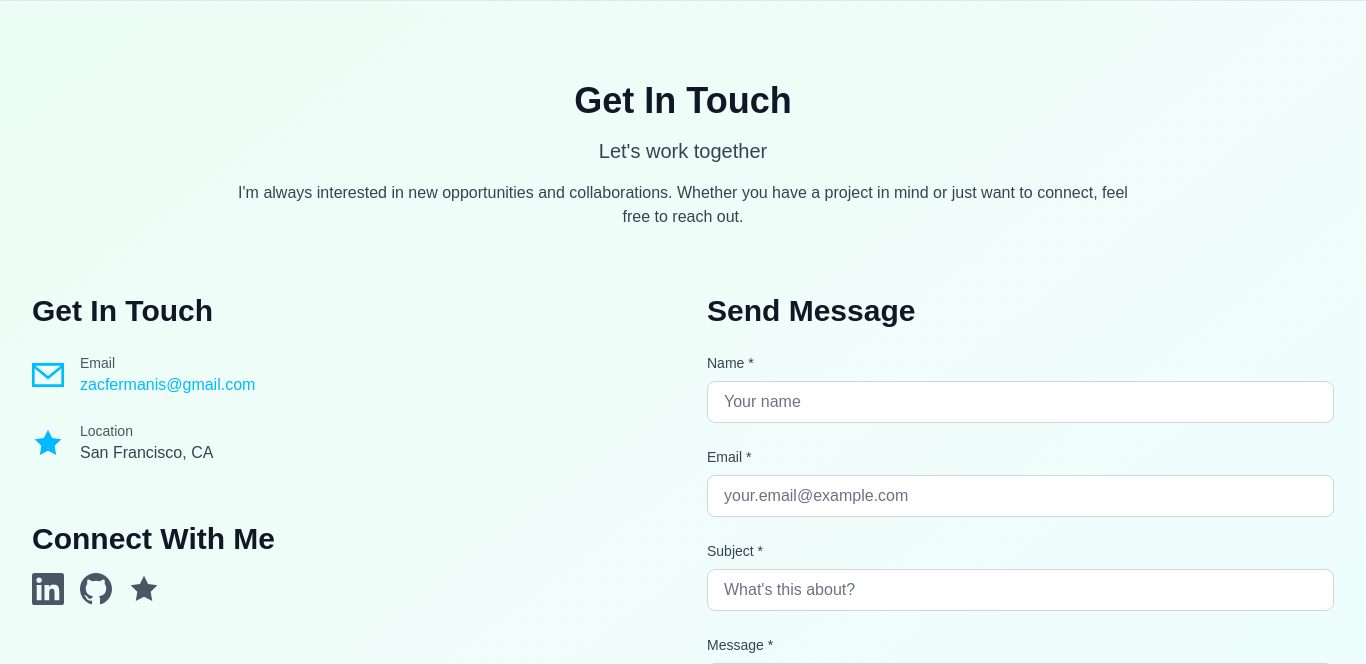
Test case: Contact › handles network error
This screenshot has width=1366, height=664.
Type "John Doe" into the field labelled "Name *" at {"x": 1020, "y": 402}, box [707,381,1334,423]
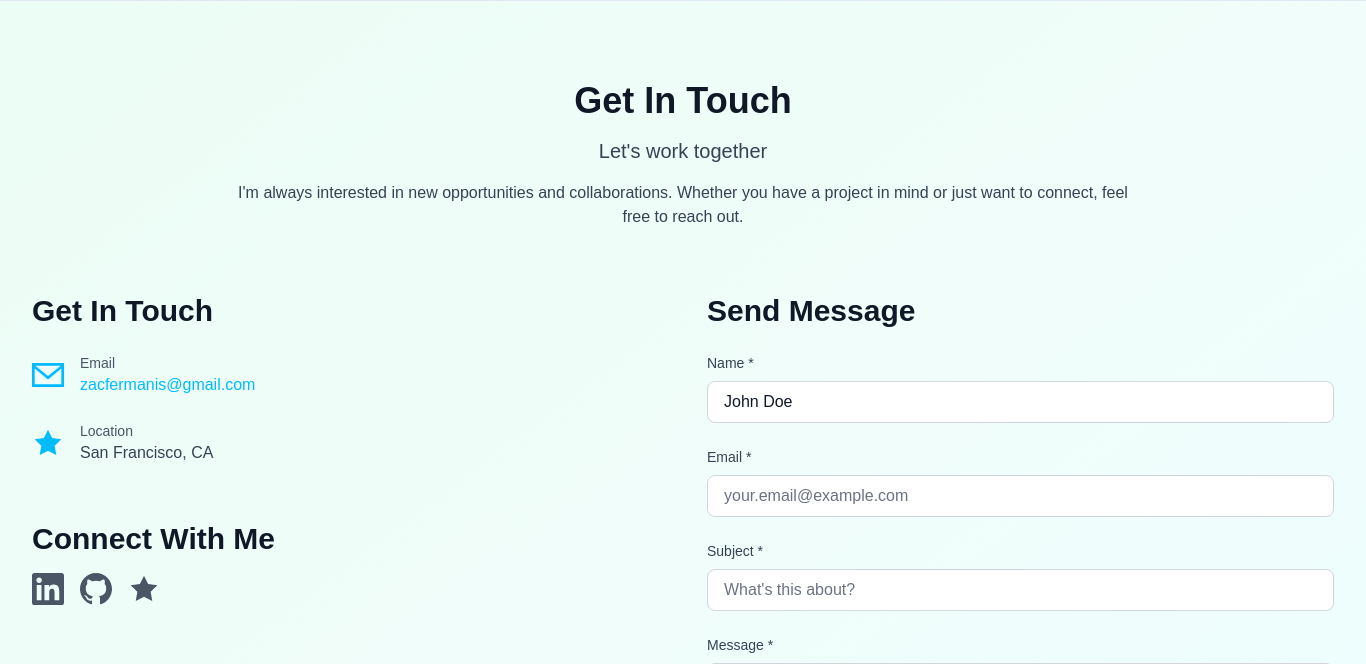
Type "john@example.com" into the field labelled "Email *" at {"x": 1020, "y": 496}, box [707,475,1334,517]
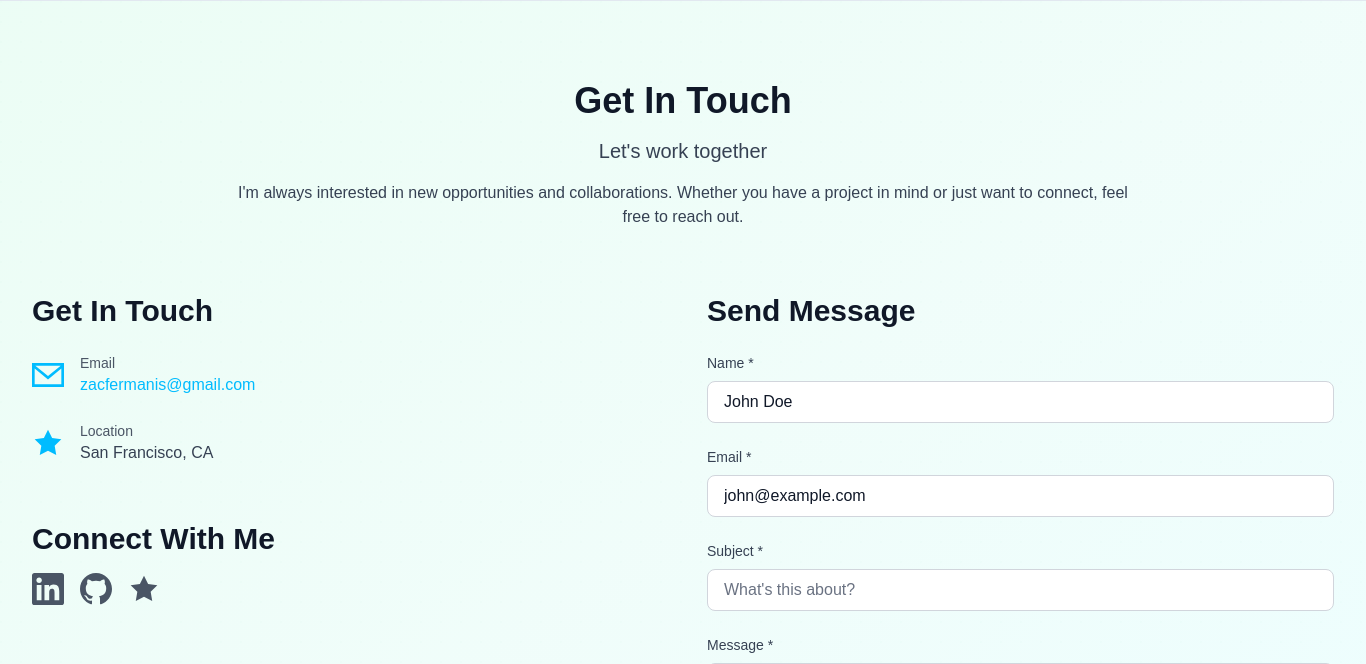
Type "Test Subject" into the field labelled "Subject *" at {"x": 1020, "y": 590}, box [707,569,1334,611]
(page scrolled)
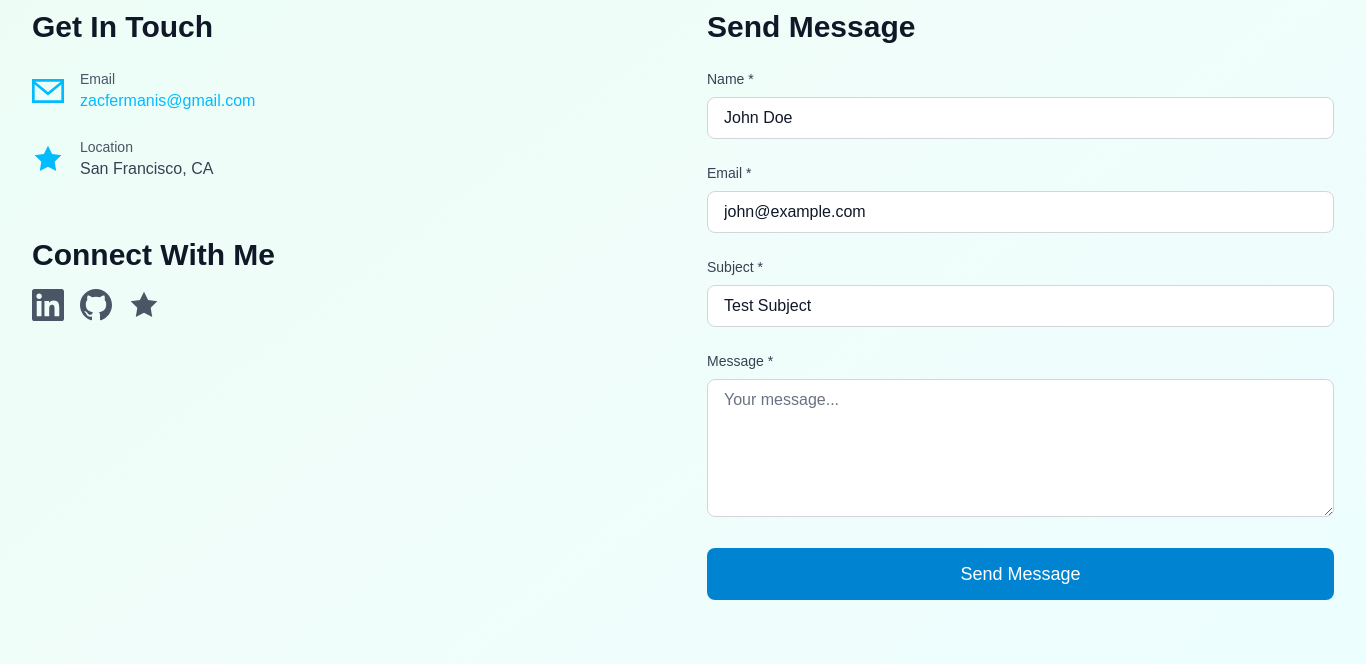
Type "Test message" into the text box labelled "Message *" at {"x": 1020, "y": 448}, box [707,379,1334,517]
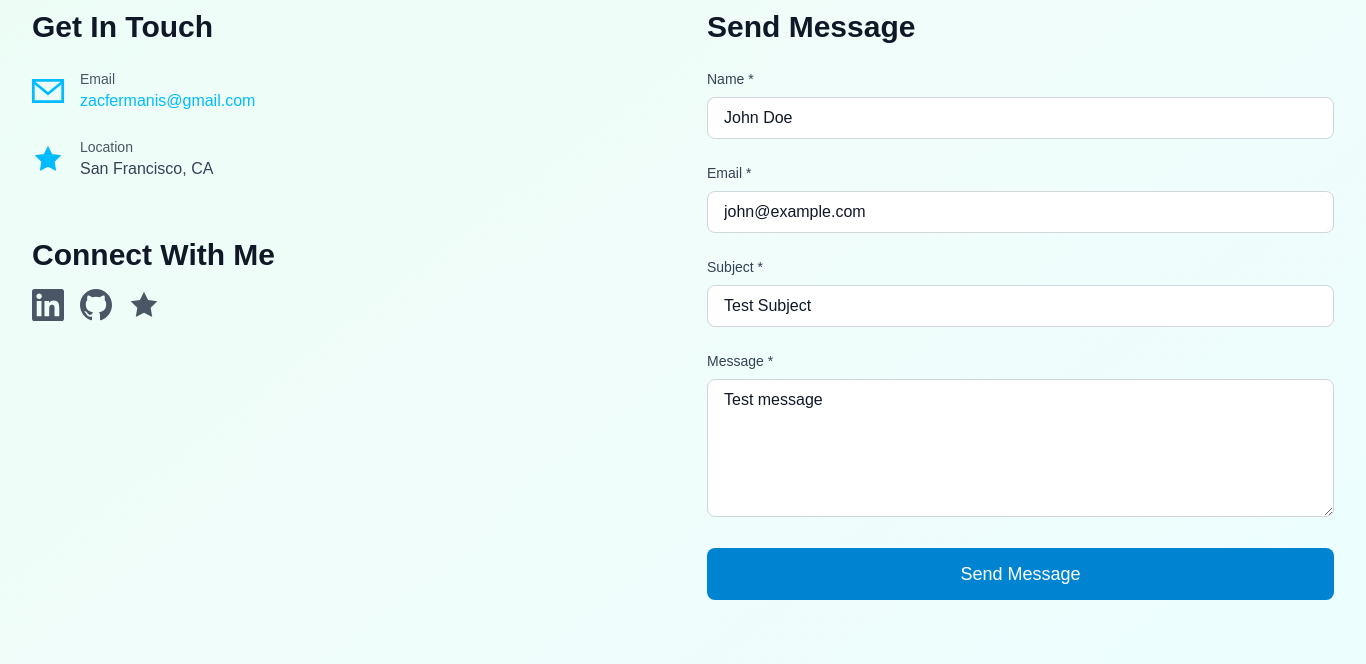
Click the button "Send Message" at {"x": 1020, "y": 574}, box [707,548,1334,600]
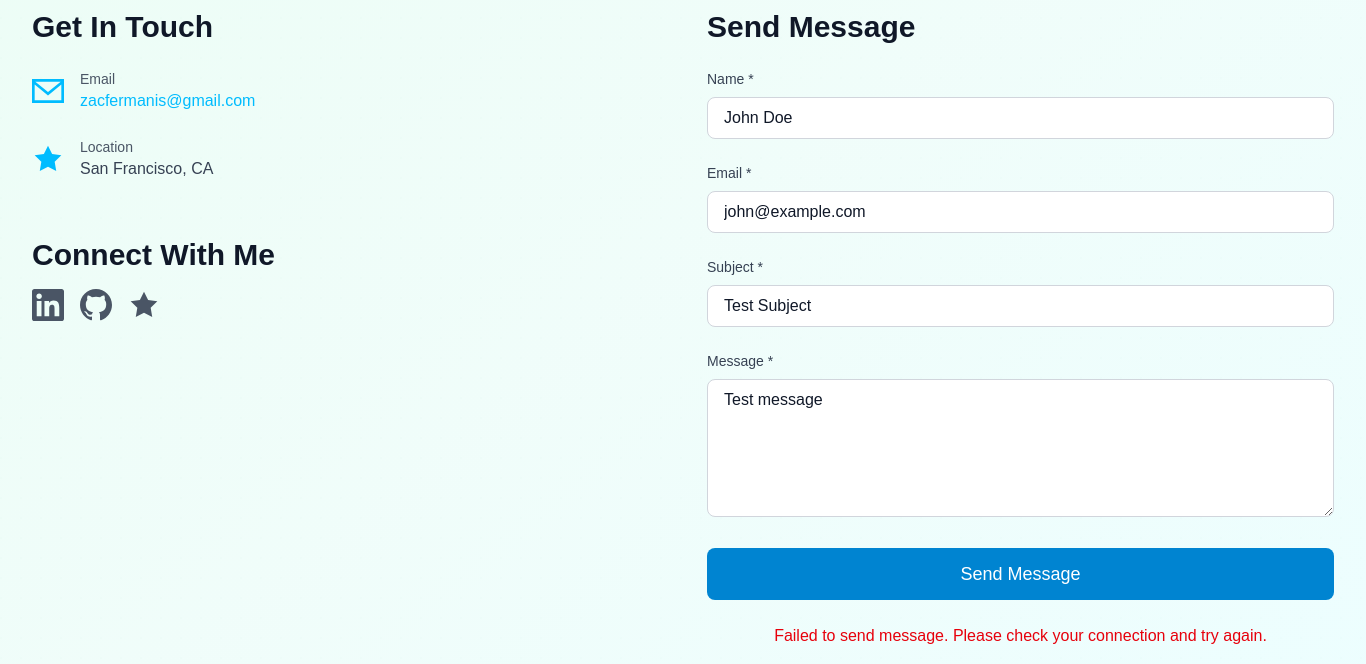
Expected: the text "Failed to send message. Please check your connection and try again." is shown, [774,627,1267,644]
